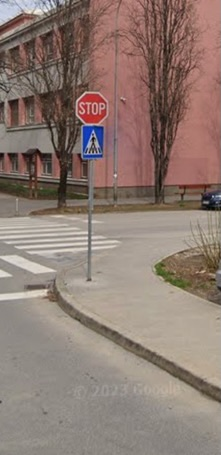Obavezno zaustavljanje: (75, 91, 109, 125)
